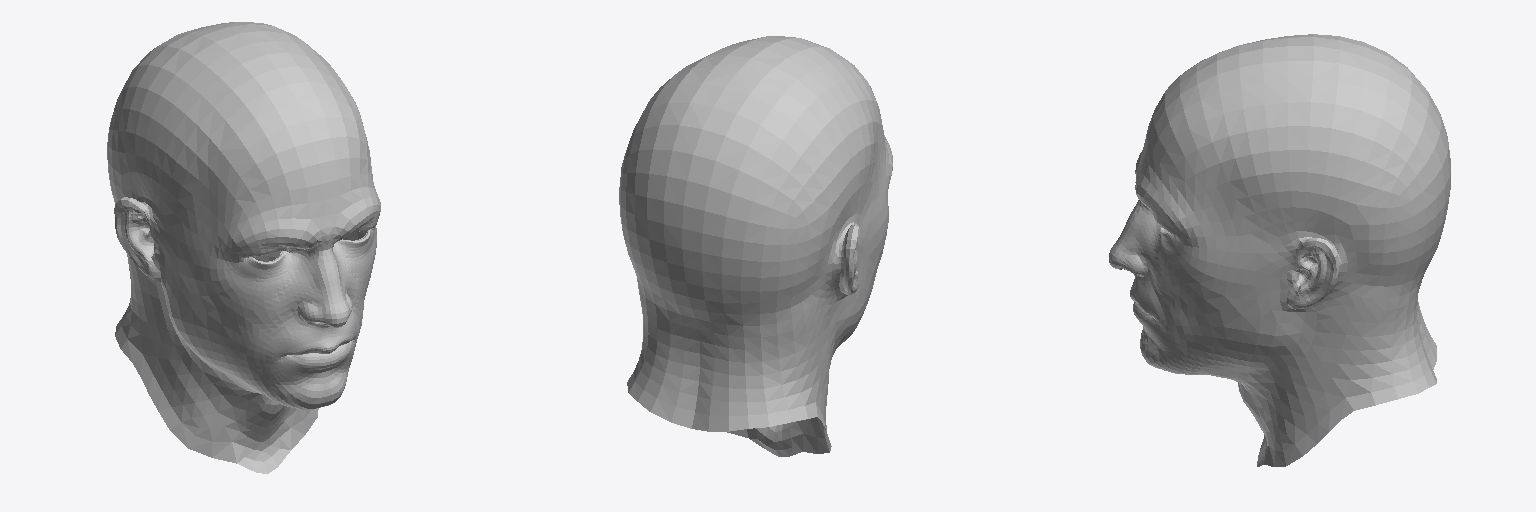
The model's file is human.obj.
3 views of the same model, side by side, from view 1: azimuth 30°, elevation 25°; view 2: azimuth 150°, elevation 25°; view 3: azimuth 270°, elevation 25° (orthographic).
Parts seen in each view (by area): view 1: man_body_0014_uv_map; view 2: man_body_0014_uv_map; view 3: man_body_0014_uv_map.
Part boxes in pixels (bbox=[...]): man_body_0014_uv_map: bbox=[107, 22, 380, 473]; man_body_0014_uv_map: bbox=[619, 36, 892, 456]; man_body_0014_uv_map: bbox=[1109, 34, 1450, 466].
Bounding box in the file's own units: 0.1767 × 0.3092 × 0.2288.